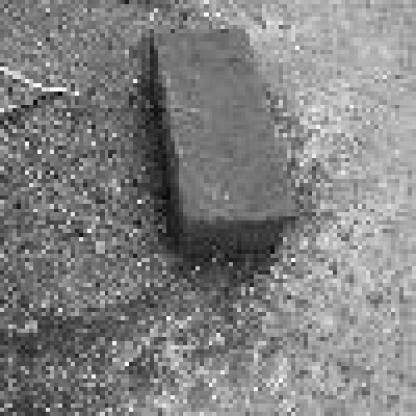brick: (147, 26, 298, 256)
